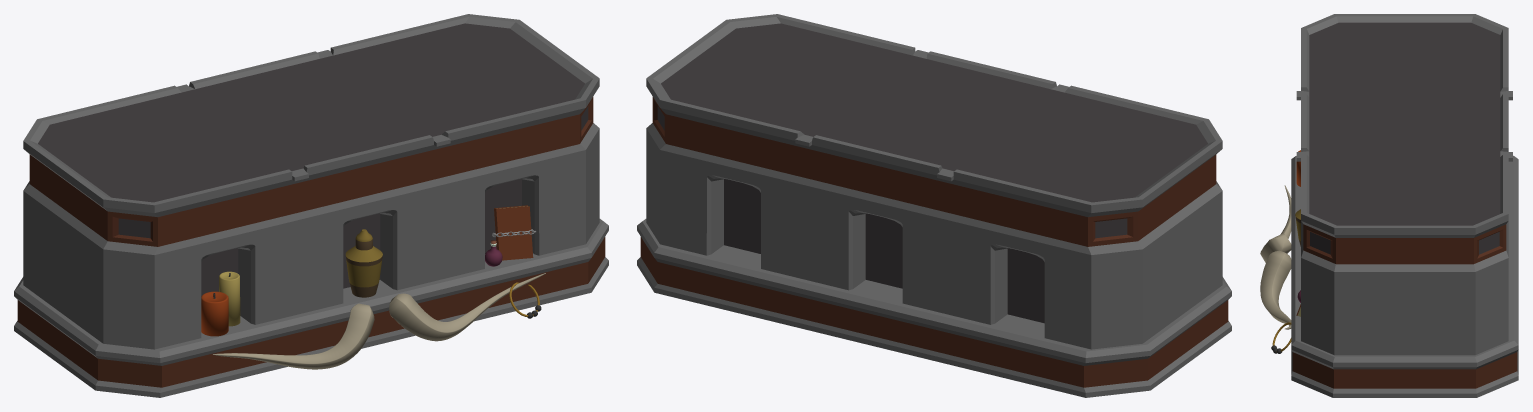
The model's file is altar.fbx.
3 renders of one model, left to right at view 1: azimuth 30°, elevation 25°; view 2: azimuth 150°, elevation 25°; view 3: azimuth 270°, elevation 25°, orthographic. The views are drawn at different scales.
Parts seen in each view (by area): view 1: Altar, Bull Horns, Chained Book, Urn.001, Fat Candle, Tall Candle; view 2: Altar; view 3: Altar, Bull Horns.
Part boxes in pixels (x1,y1,x2,y2): Altar: (14,14,608,397); Bull Horns: (212,273,545,369); Chained Book: (492,205,536,260); Urn.001: (345,229,382,297); Fat Candle: (201,291,228,336); Tall Candle: (219,271,240,326); Altar: (637,14,1231,397); Altar: (1291,14,1518,397); Bull Horns: (1260,185,1291,353).
Bounding box in the file's own units: 713 × 352 × 252.
